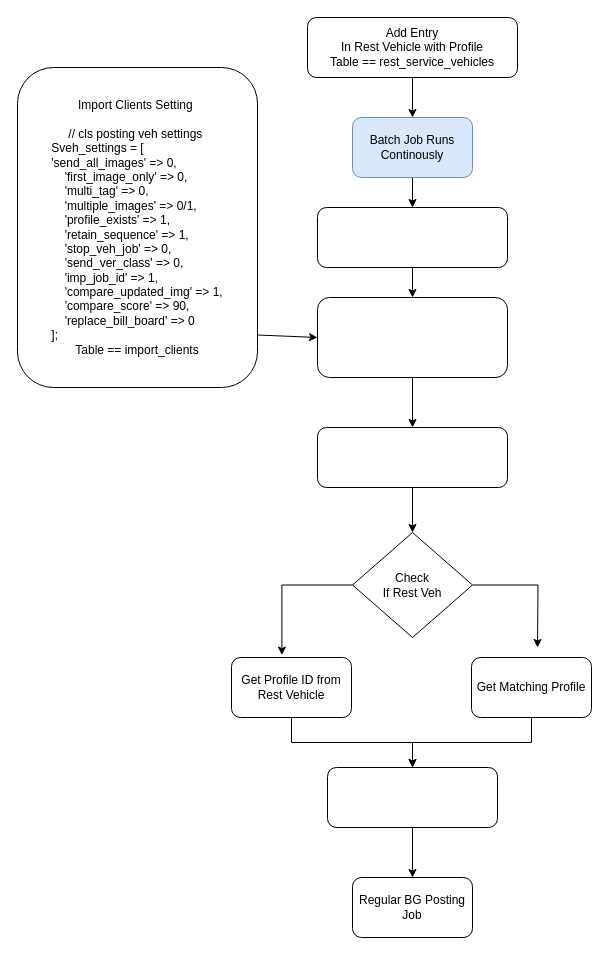
This 609x955 diagram has some shape labels left out. The centre of each missing label's shape, as x and y in pixels:
Add entry Class Job Queue with settings Table == df_cls_veh_job: pixel 412 337
Check Vehicle Validation Add/Update: pixel 412 237
Get Profile Id and Conditions BG/Blr/Hybrid/LP/Overlay: pixel 412 797
Regular BG Posting Job Before Posting Table == df_veh_job: pixel 412 457
